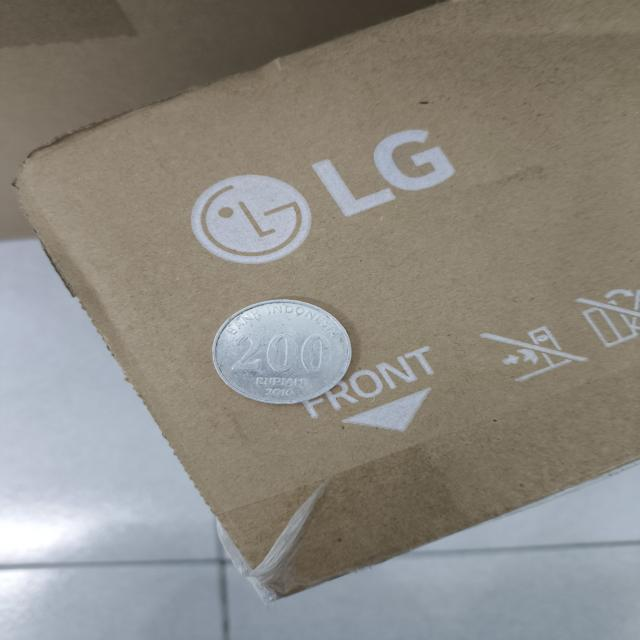1000-sawit: (213, 300, 351, 404)
